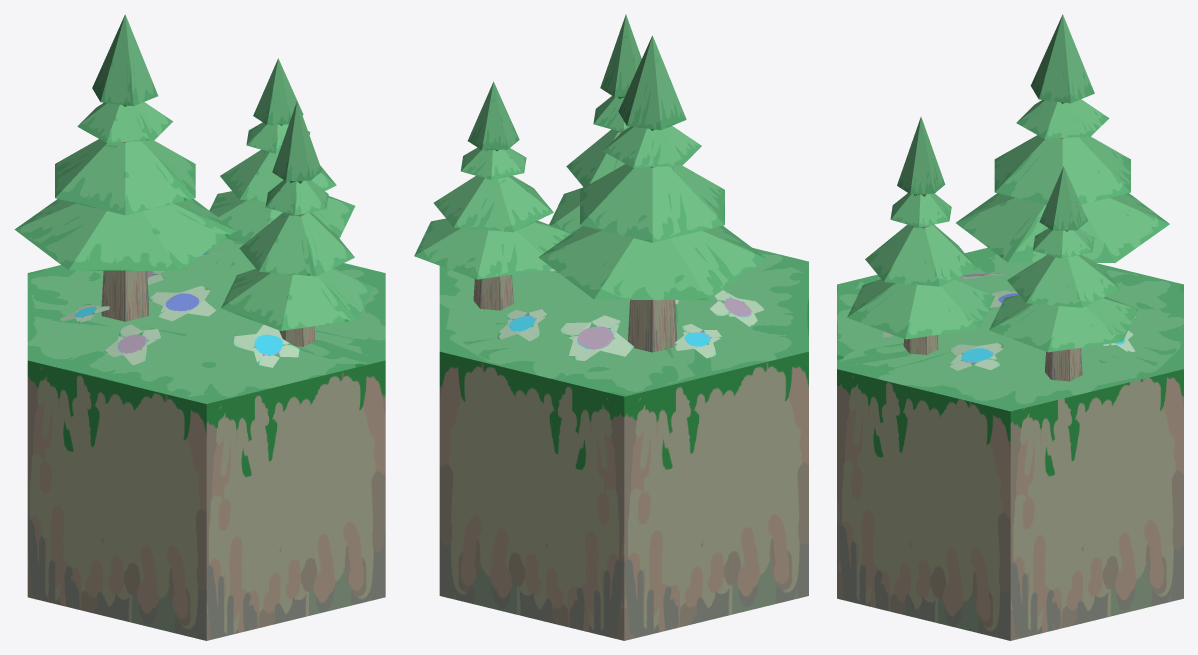
Rendered from tile_forest_1.FBX.
The picture shows the model from 3 angles, left to right: view 1: azimuth 30°, elevation 25°; view 2: azimuth 150°, elevation 25°; view 3: azimuth 270°, elevation 25°; orthographic projection. The views are drawn at different scales.
Parts seen in each view (by area): view 1: Cylinder001; view 2: Cylinder001; view 3: Cylinder001.
Part boxes in pixels (bbox=[...]): Cylinder001: bbox=[14, 14, 385, 640]; Cylinder001: bbox=[414, 14, 808, 640]; Cylinder001: bbox=[837, 14, 1183, 640].
Bounding box in the file's own units: 25.3 × 21.91 × 36.01.
1 material, 1 textured.
